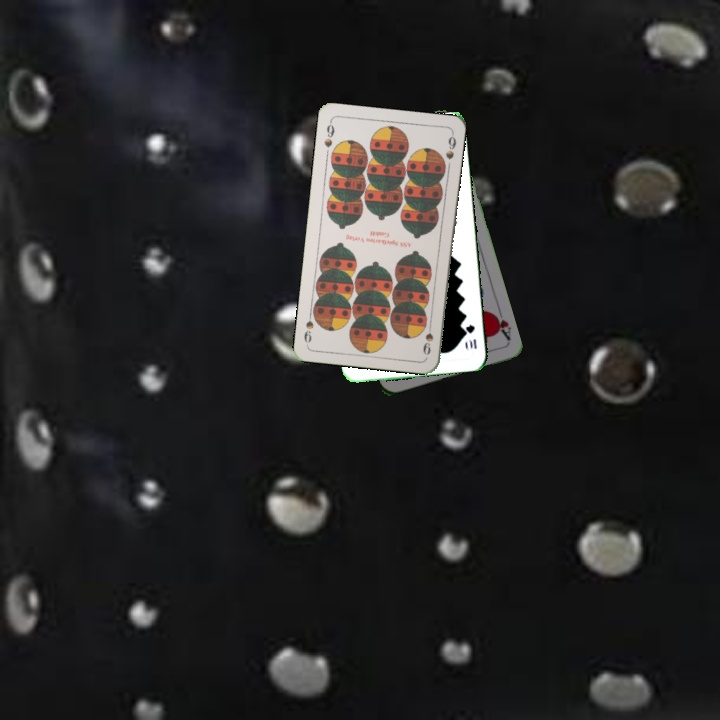G10: (462, 321, 479, 351)
HA: (488, 304, 513, 343)
S9: (419, 317, 436, 358), (320, 117, 337, 150)
